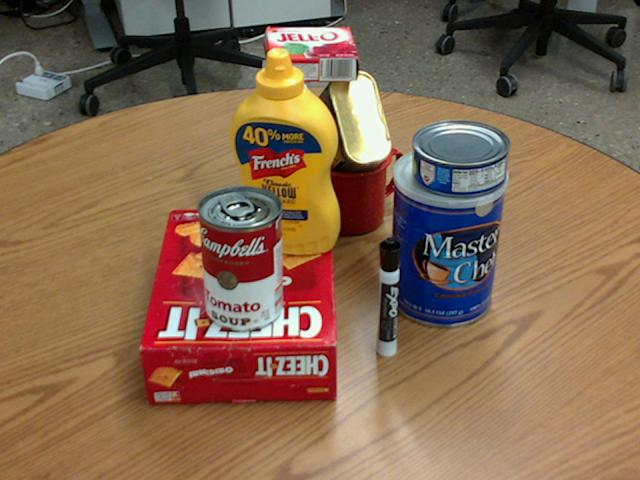cracker_box: (140, 209, 337, 402)
gelatin_box: (265, 28, 357, 81)
large_marker: (376, 237, 400, 356)
master_chef_can: (387, 143, 507, 326)
mug: (308, 132, 406, 233)
mustard_bottle: (227, 48, 338, 253)
potted_meat_can: (306, 72, 391, 188)
sugar_box: (263, 60, 309, 249)
tomato_soup_can: (197, 185, 283, 330)
tuna_fish_can: (411, 120, 510, 196)
